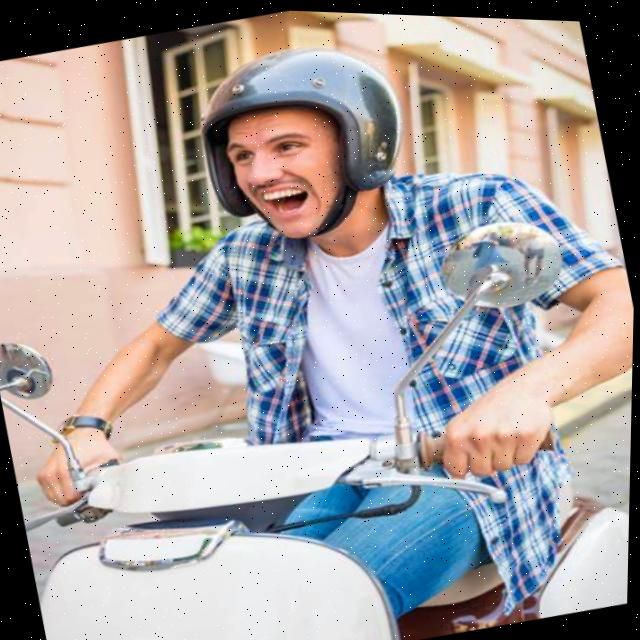helmet: (174, 17, 431, 266)
